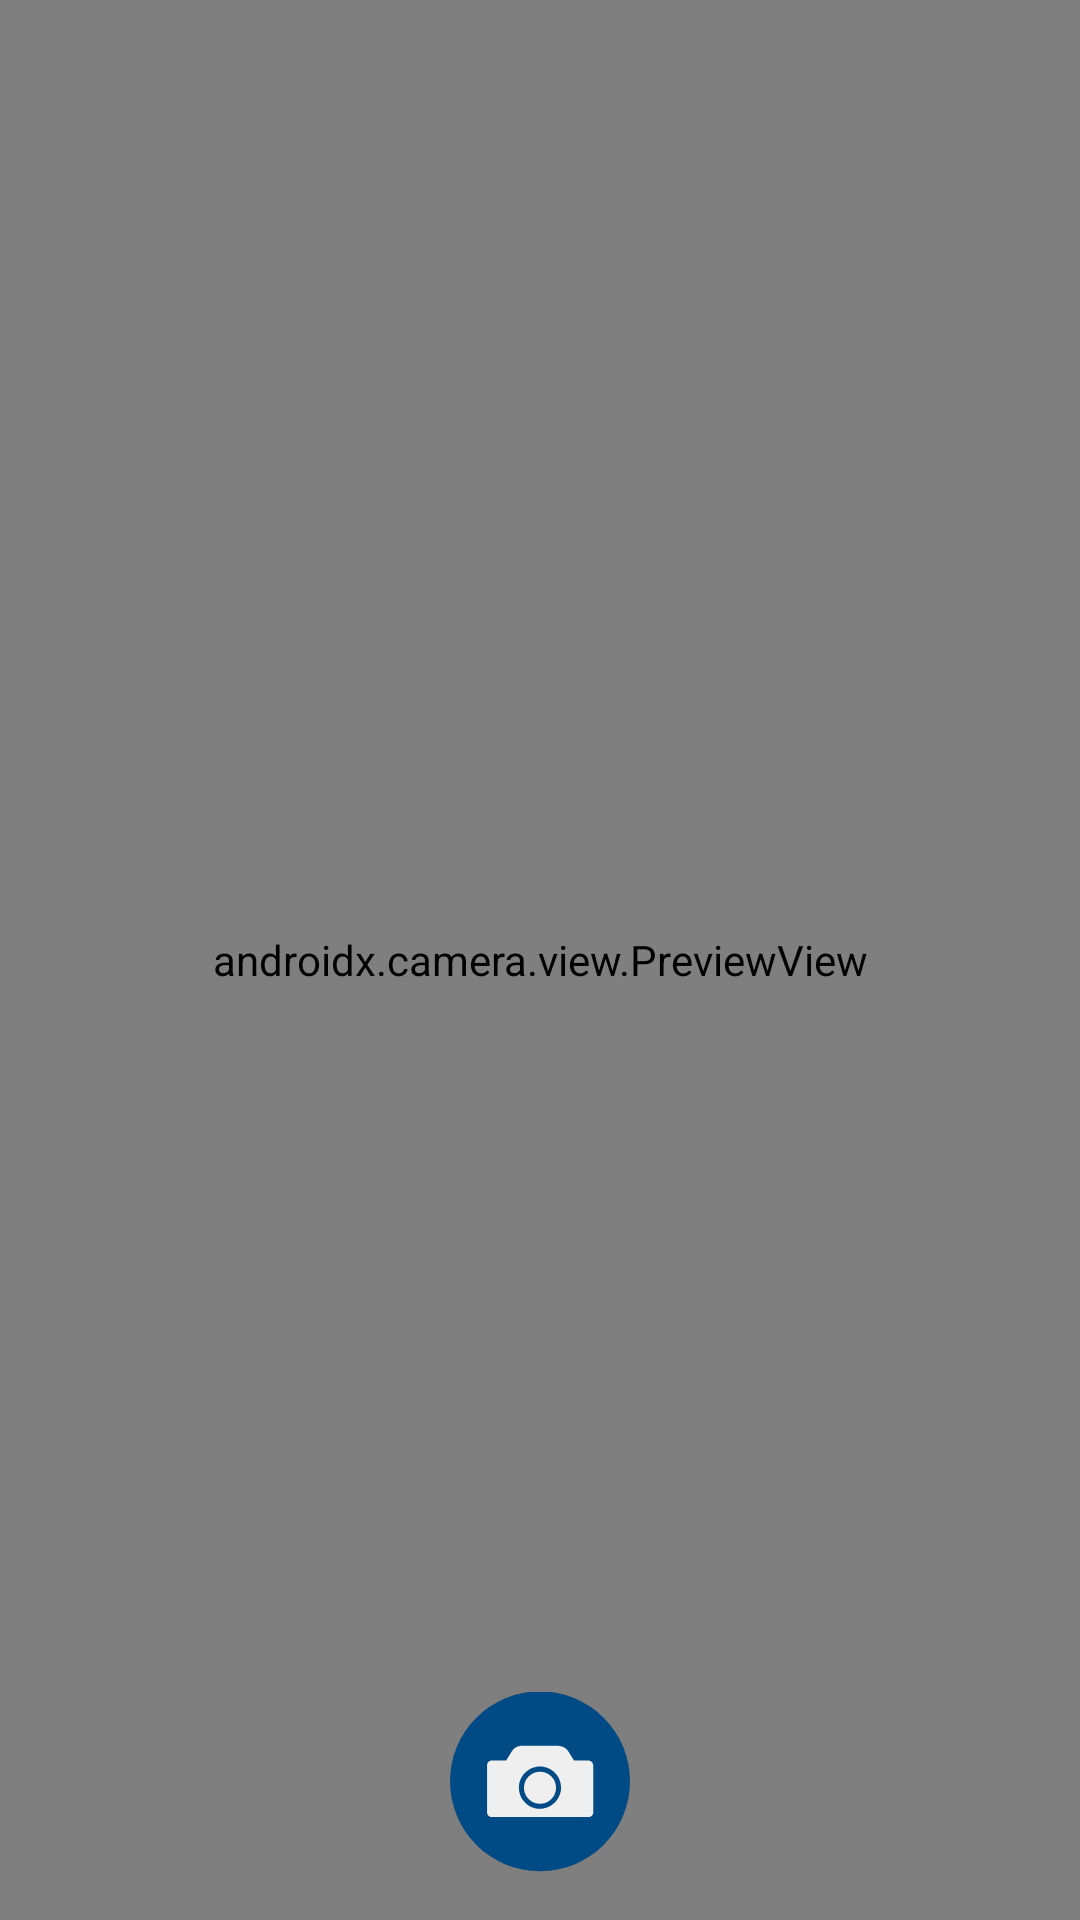

Named icons in this screenshot (1080px×1920px) and their bounding boxes, bbox=[x1, y1, x2, y2]:
capture: bbox=[450, 1692, 630, 1872]
